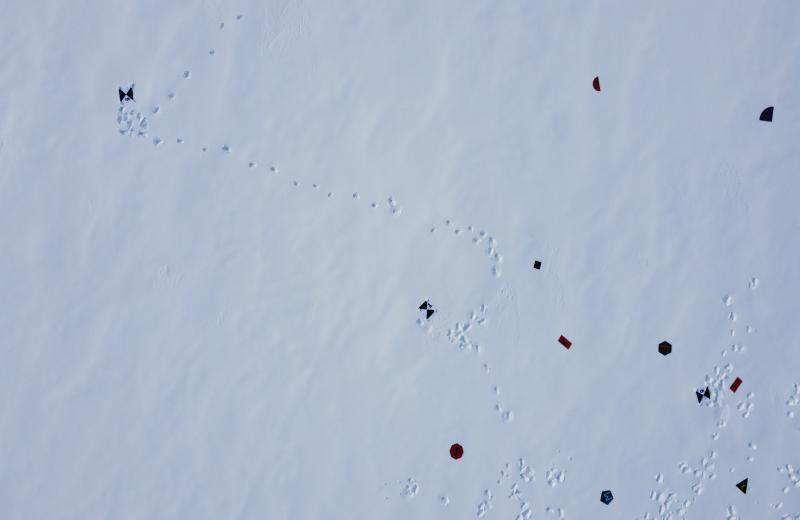Hexagon: (658, 340, 672, 357)
Octagon: (449, 443, 464, 460)
Pentagon: (600, 490, 614, 506)
Quarter Circle: (759, 105, 774, 123)
Rectangle: (558, 334, 573, 351), (730, 376, 743, 394)
Semi Circle: (592, 76, 602, 92)
Square: (533, 260, 542, 270)
Triangle: (735, 477, 749, 496)
